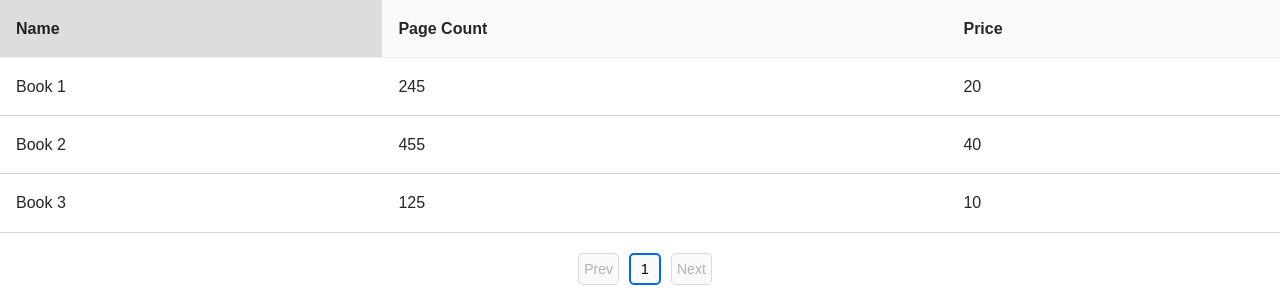
Table.vue › high to low sorting
The image size is (1280, 302).
Click the column heading with class "table-column" showing "Price" at [1114, 29], box [948,0,1279,58]
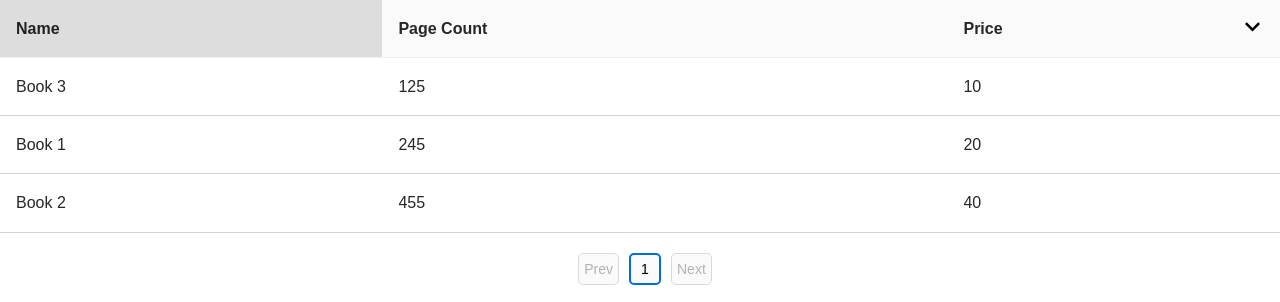
Click the column heading with class "table-column" showing "Price" at [1114, 29], box [948,0,1279,58]
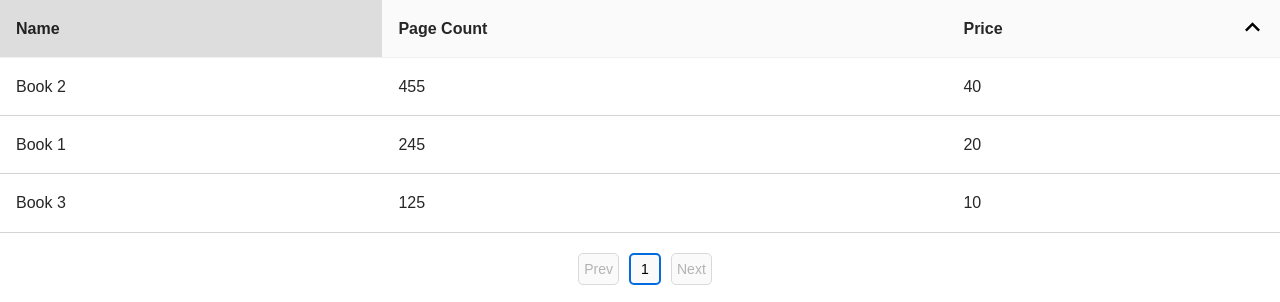
Expected: the cell "40" is shown, [948,58,1279,116]
